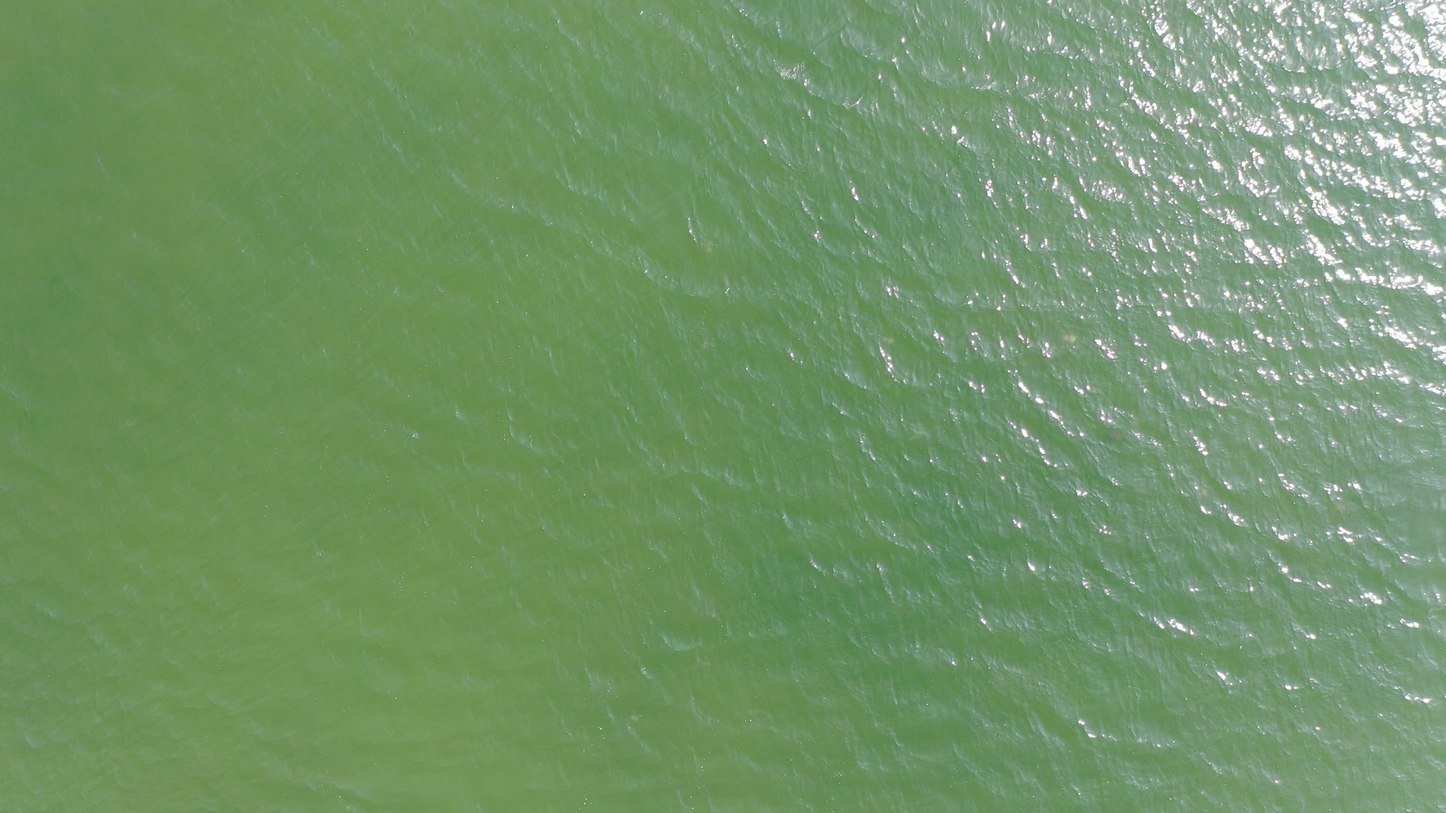meduse: (1064, 334, 1077, 344), (883, 336, 895, 346), (1336, 504, 1348, 513), (705, 242, 714, 253), (1196, 490, 1207, 499), (913, 433, 921, 440), (631, 716, 638, 722), (703, 341, 709, 348)
